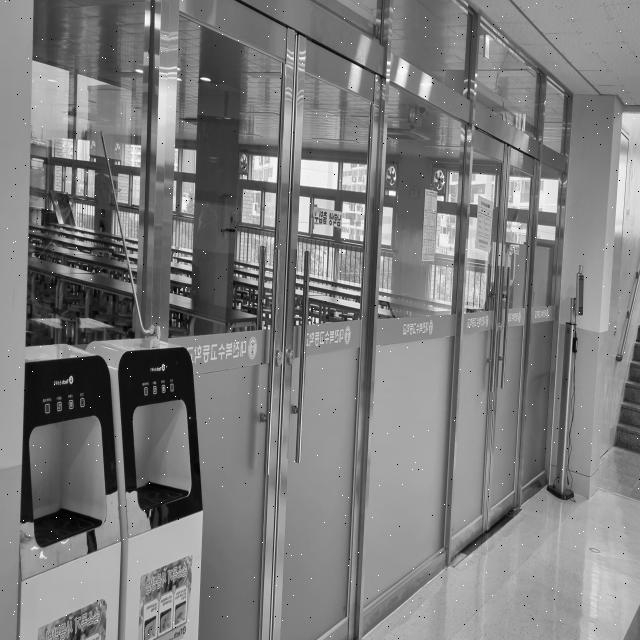logo: (248, 336, 258, 361), (344, 325, 351, 346), (428, 319, 434, 336), (485, 314, 489, 328), (518, 311, 521, 323), (546, 308, 549, 320)
